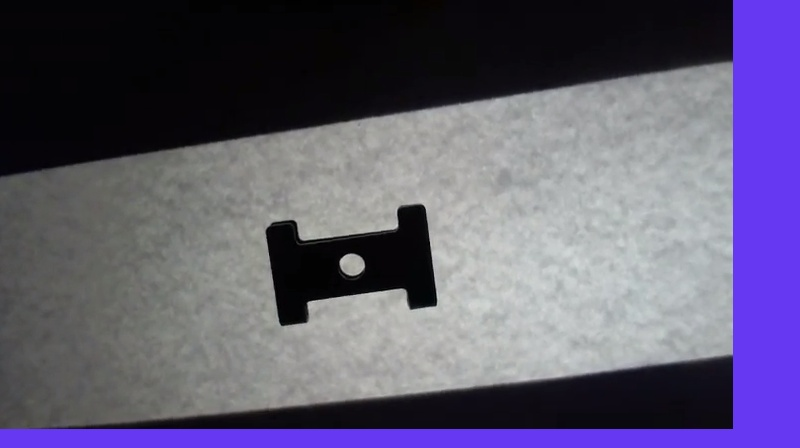O002: (260, 198, 439, 327)
